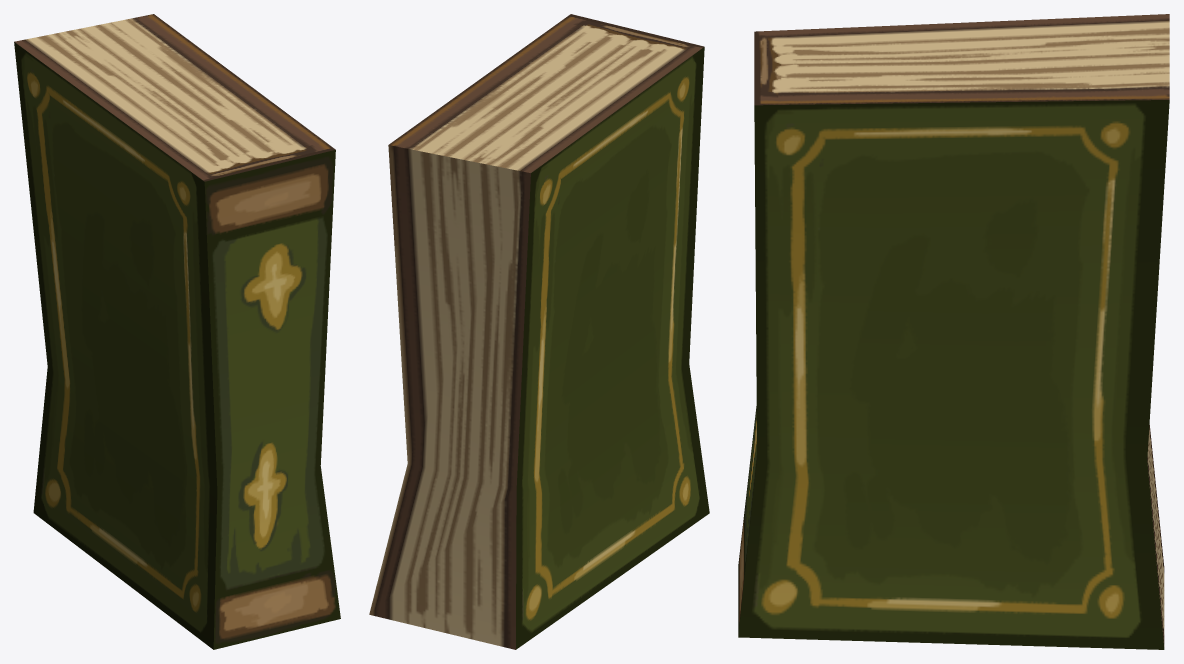
File: SM_PROP_book_dungeon_03.fbx
3 renders of one model, left to right at view 1: azimuth 30°, elevation 25°; view 2: azimuth 150°, elevation 25°; view 3: azimuth 270°, elevation 25°, orthographic. The views are drawn at different scales.
Visible parts, largest first — view 1: SM_PROP_book_dungeon_03; view 2: SM_PROP_book_dungeon_03; view 3: SM_PROP_book_dungeon_03.
Boxes of the visible parts, x1,y1,x2,y2 form: SM_PROP_book_dungeon_03: (14, 14, 340, 649); SM_PROP_book_dungeon_03: (369, 14, 709, 649); SM_PROP_book_dungeon_03: (738, 14, 1169, 649).
Size of the model in its own units: 9.29 by 26.15 by 18.74.
